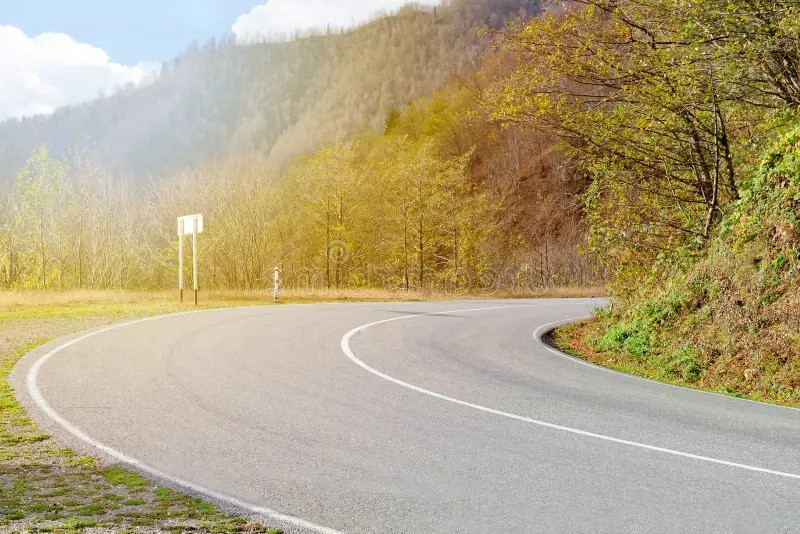rightTrun: (245, 284, 529, 473)
